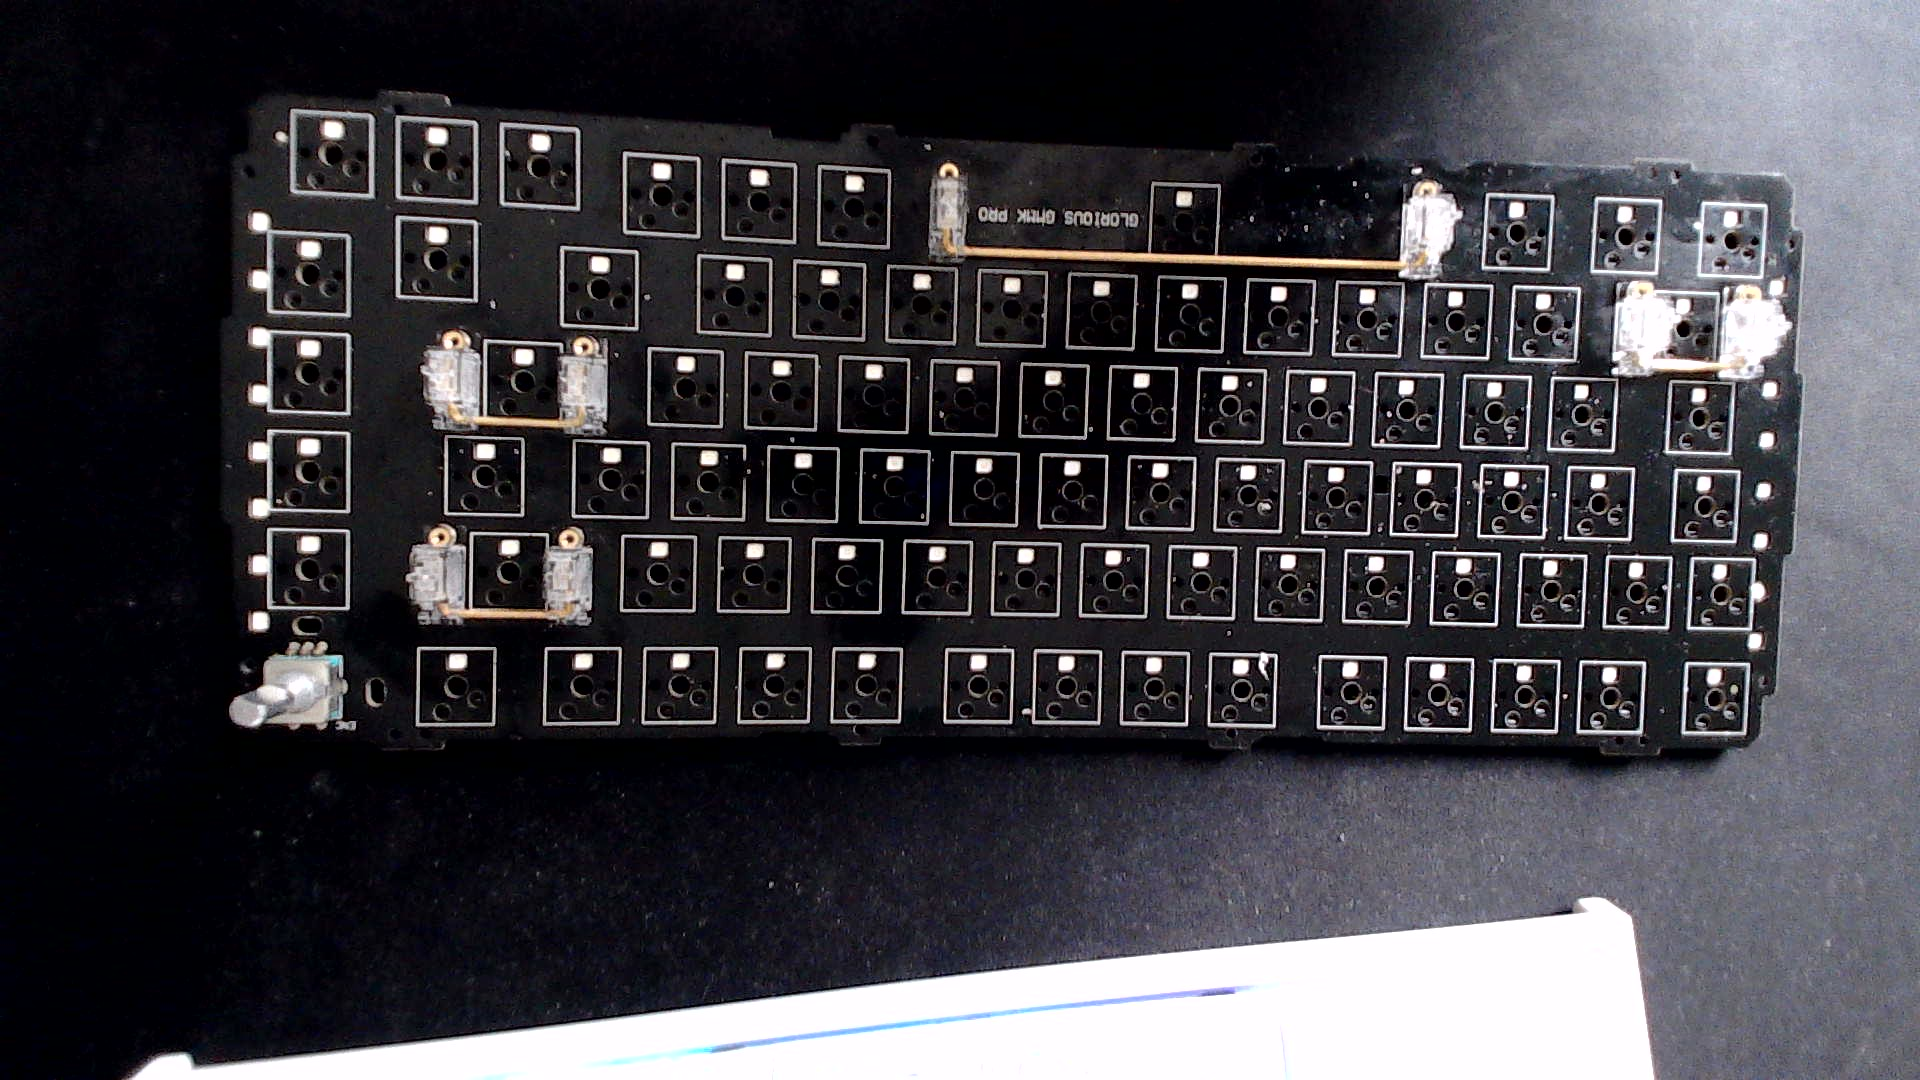pcb: (161, 51, 1825, 818)
